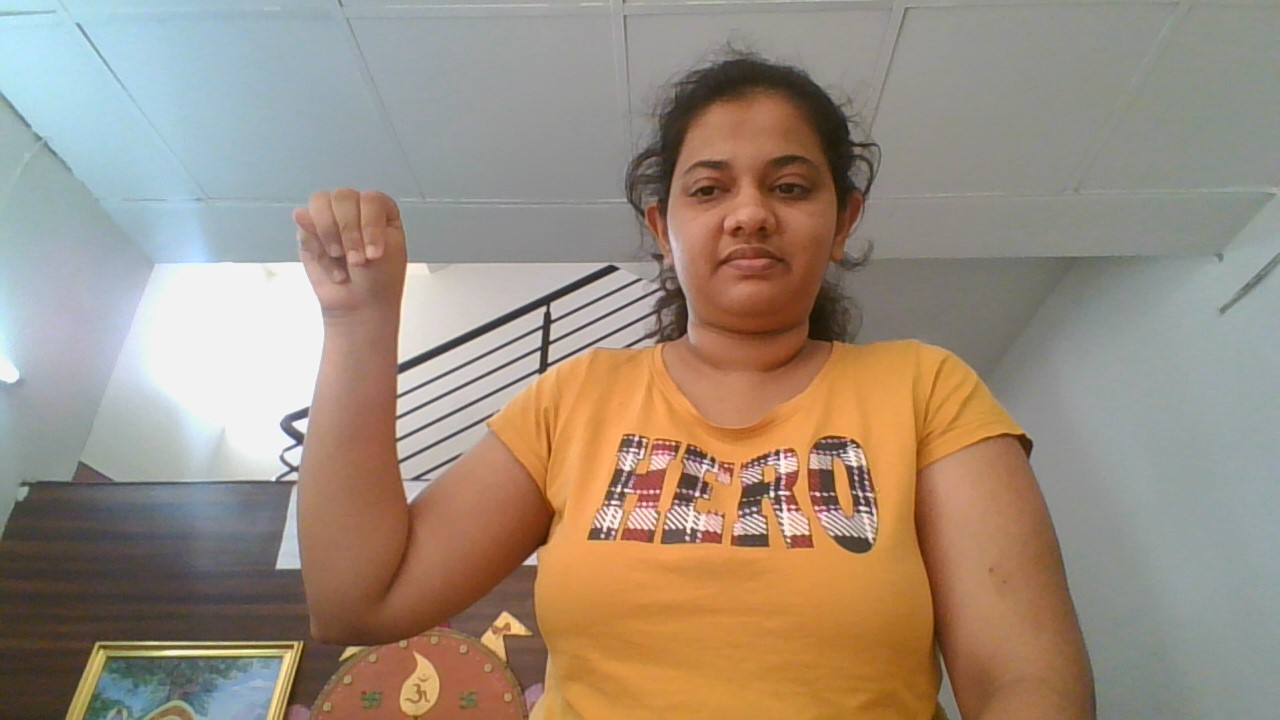m: (260, 184, 452, 326)
